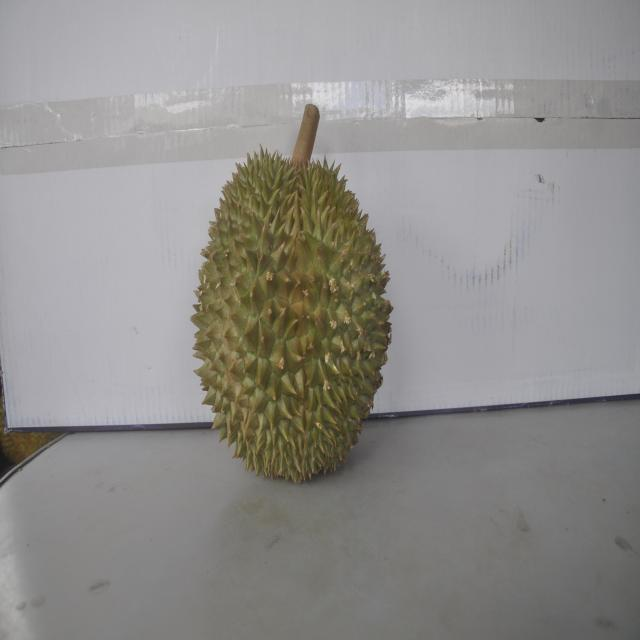mature: (193, 130, 394, 484)
